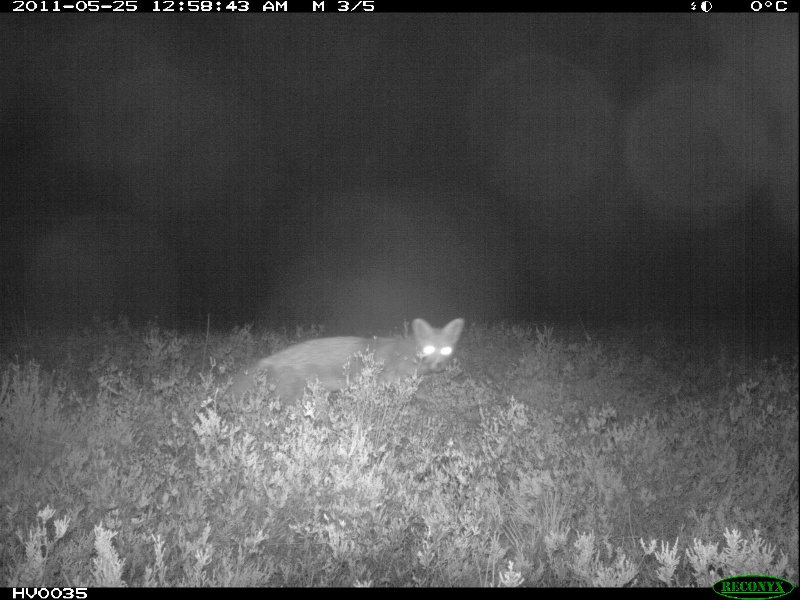fox: (202, 312, 473, 414)
